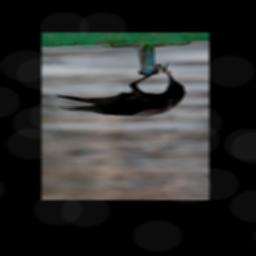Crow: (54, 68, 186, 117)
